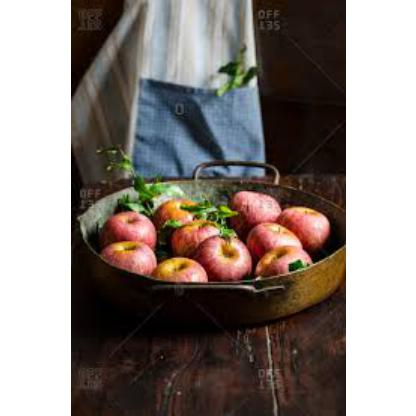apple: (210, 242, 250, 278), (228, 191, 284, 215), (296, 210, 330, 247), (107, 250, 156, 275), (172, 251, 204, 287), (112, 217, 157, 239), (176, 220, 218, 242), (165, 204, 207, 219), (169, 205, 175, 209)
